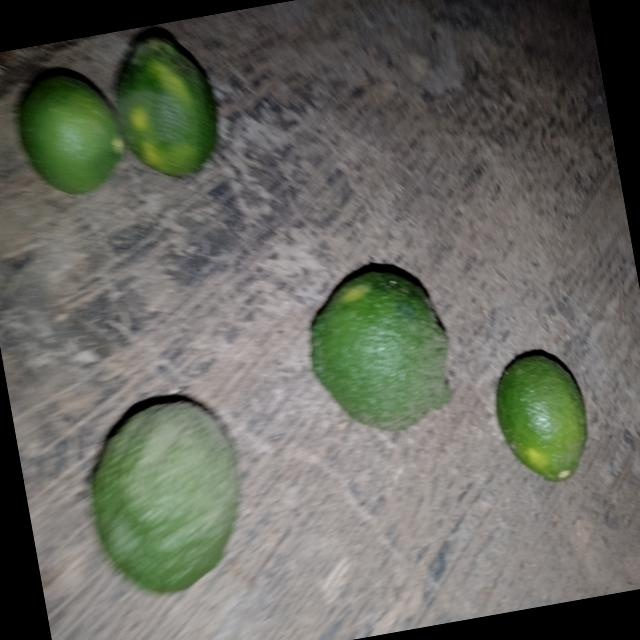agrume: (63, 367, 266, 618), (282, 233, 486, 459), (99, 13, 242, 199), (0, 49, 140, 201)
